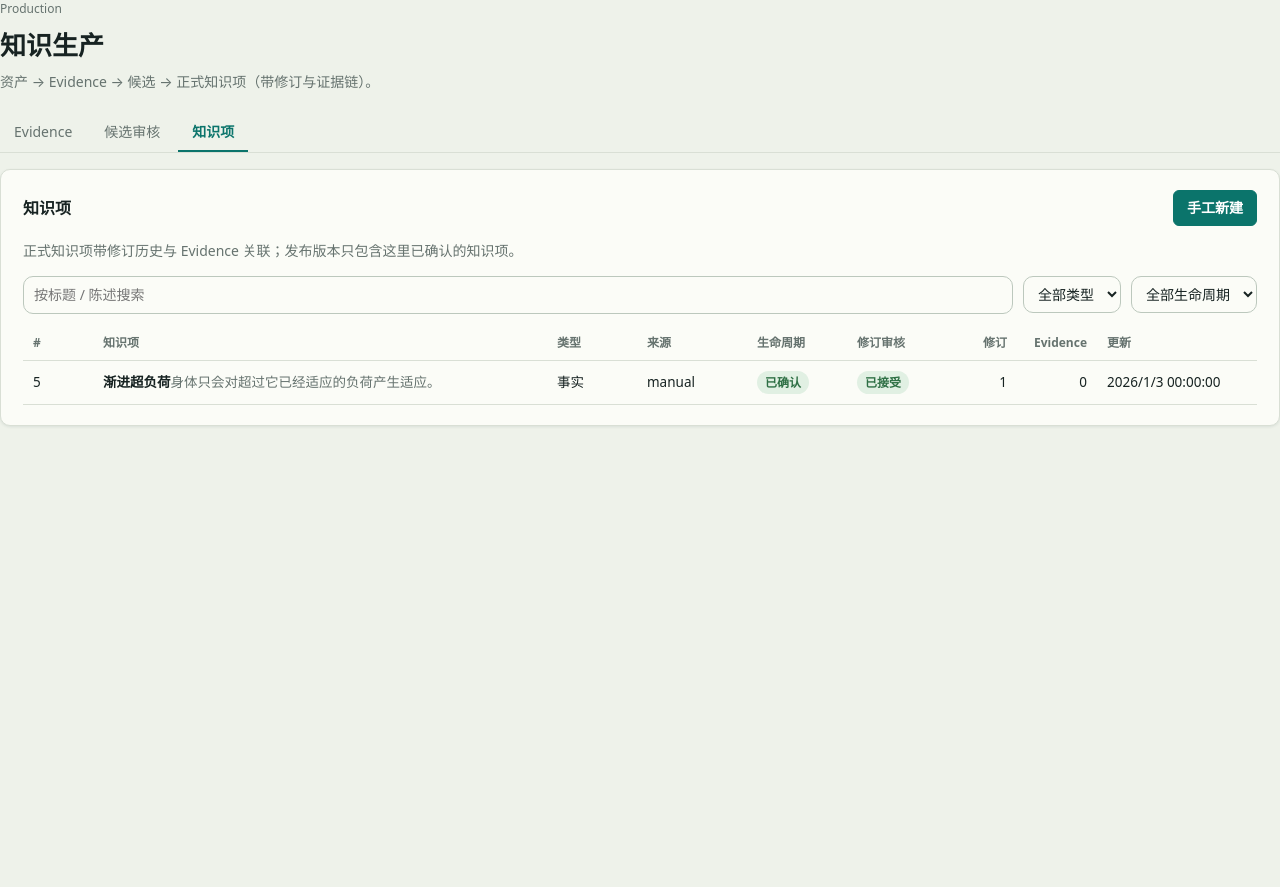
上链到知行图 › 在钱包里取消签名:提示取消,不提交
Click the text "渐进超负荷" at (137, 382), box [103,373,170,391]
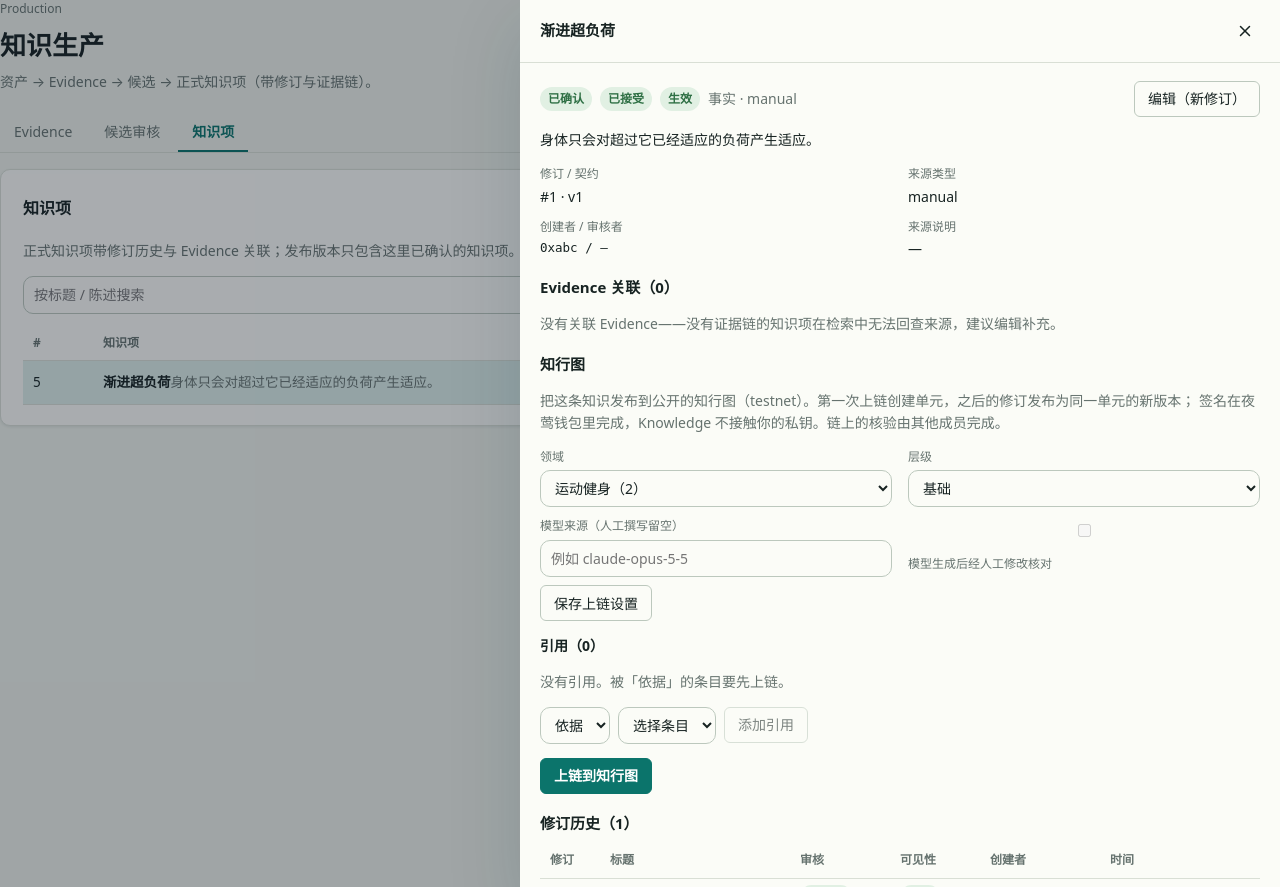
expect the element "知行图" is shown: met, box [540,353,1260,794]
Click the button "上链到知行图" at (596, 776), box [540,758,652,794]
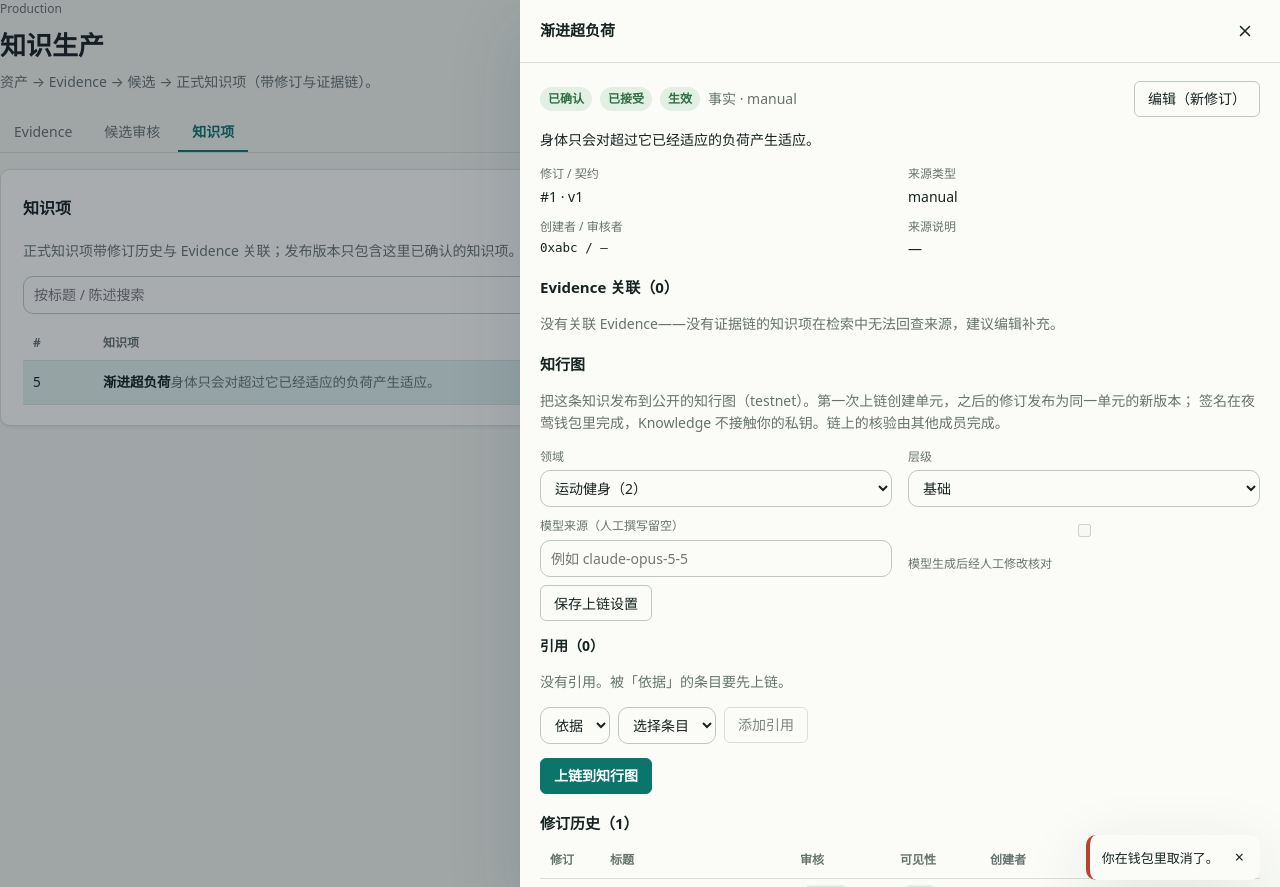
expect the text "你在钱包里取消了。" is shown: met, box [1102,848,1219,868]
